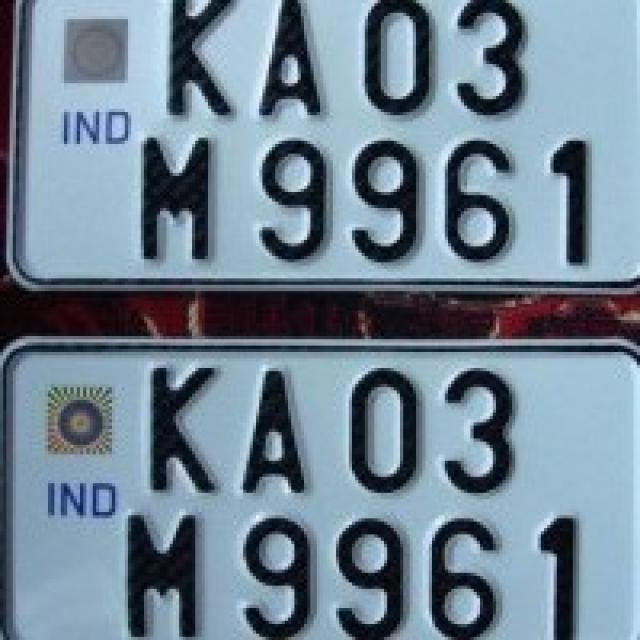plate: (6, 0, 640, 307), (5, 333, 638, 640)
